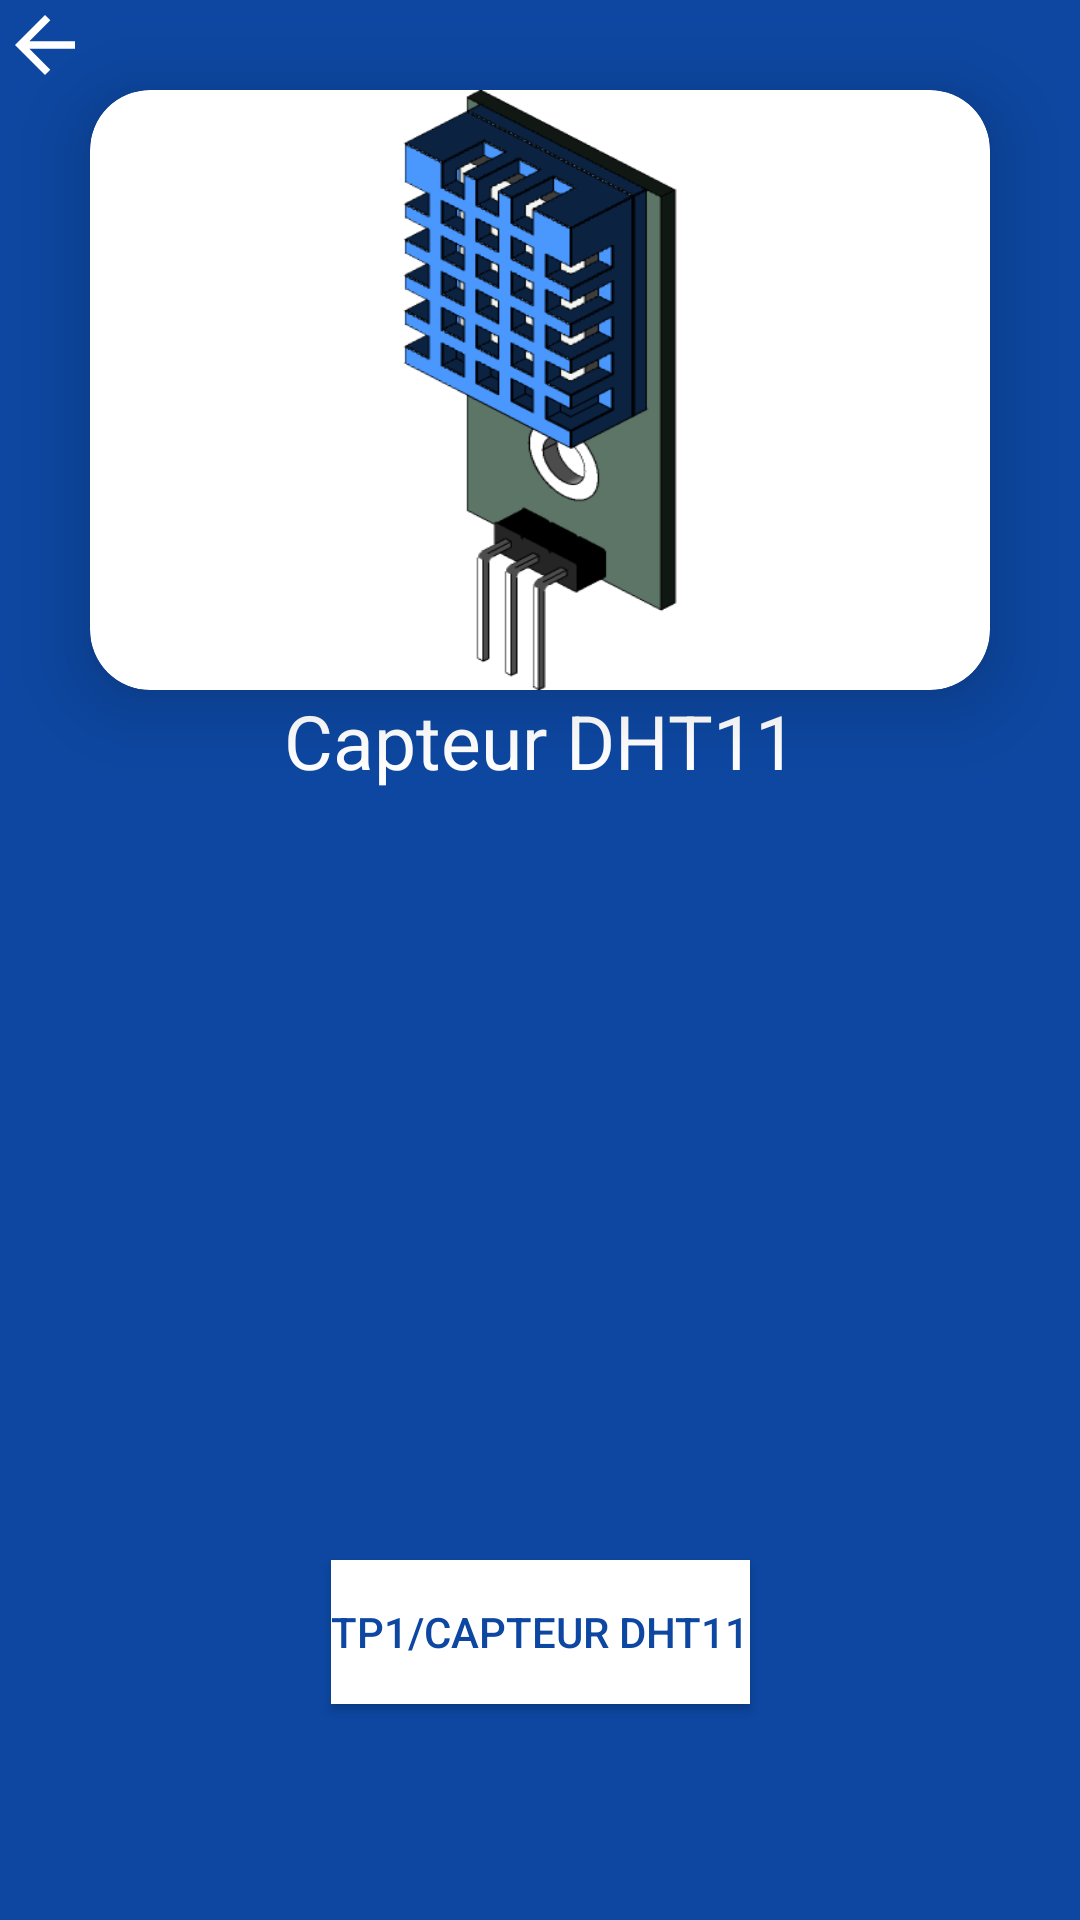

Screen size 1080 x 1920. Icon name, then its center in pixels as point (x, y):
ret: point (45, 45)
